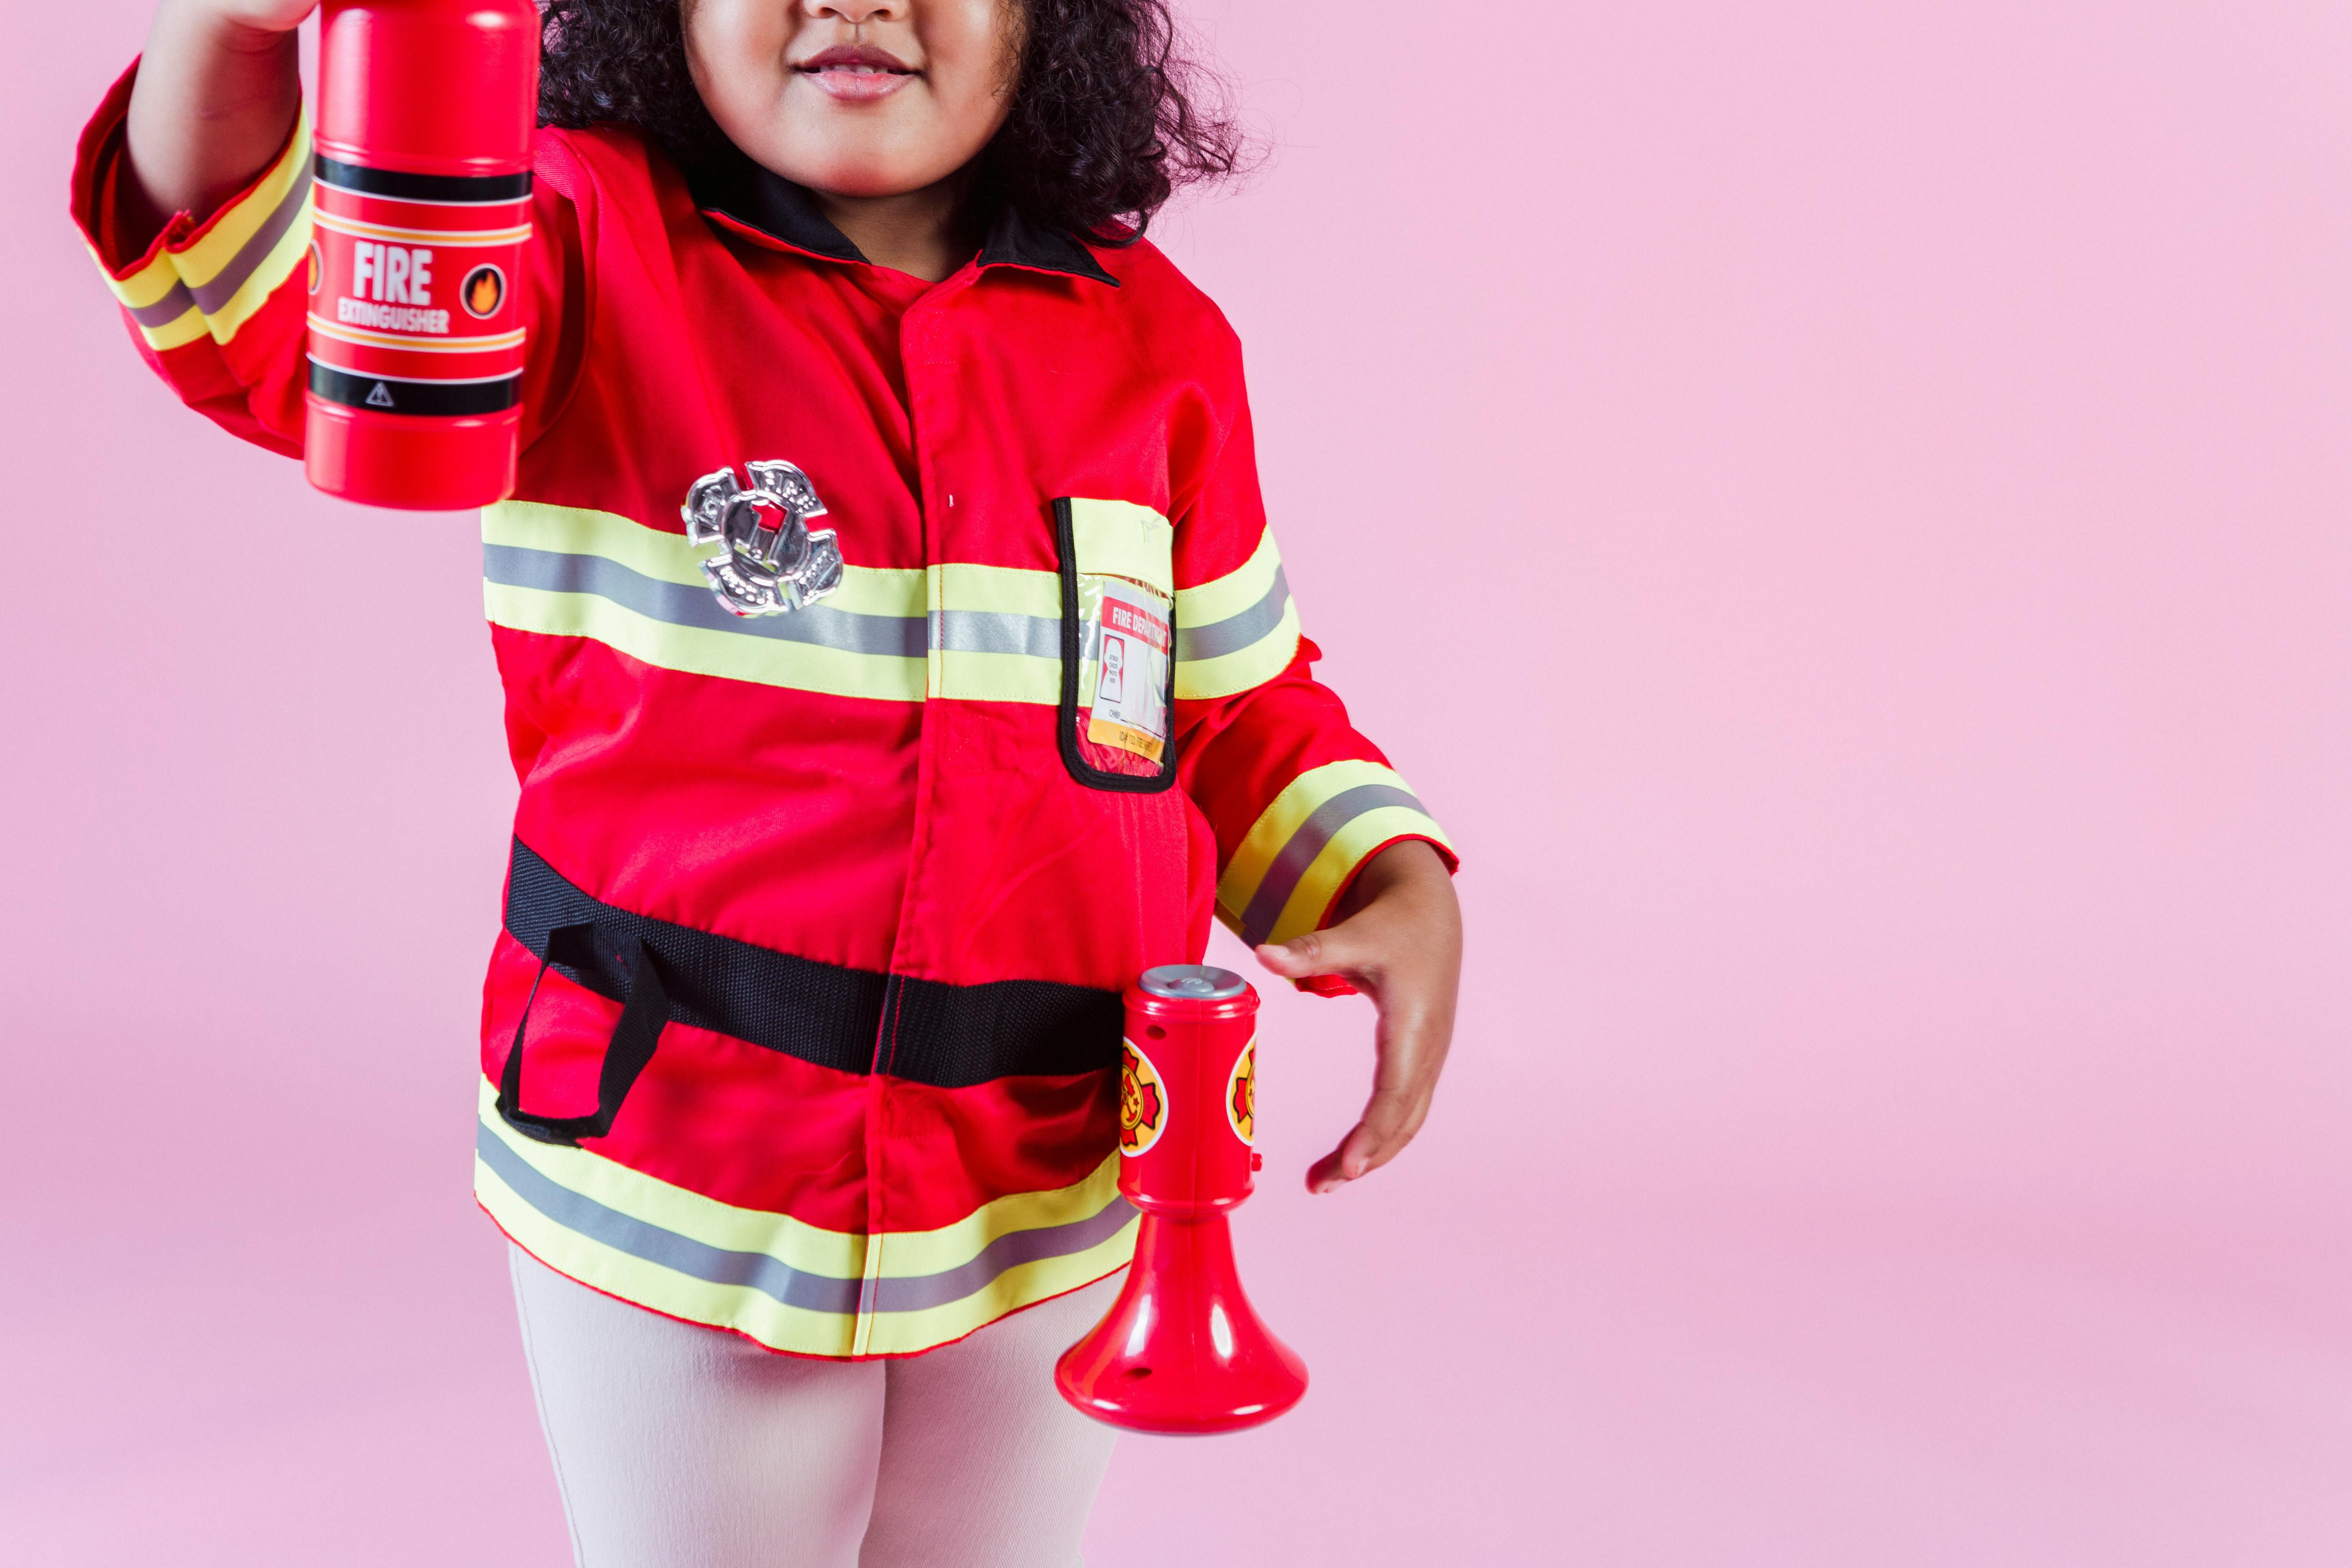extintor: (308, 0, 548, 518)
